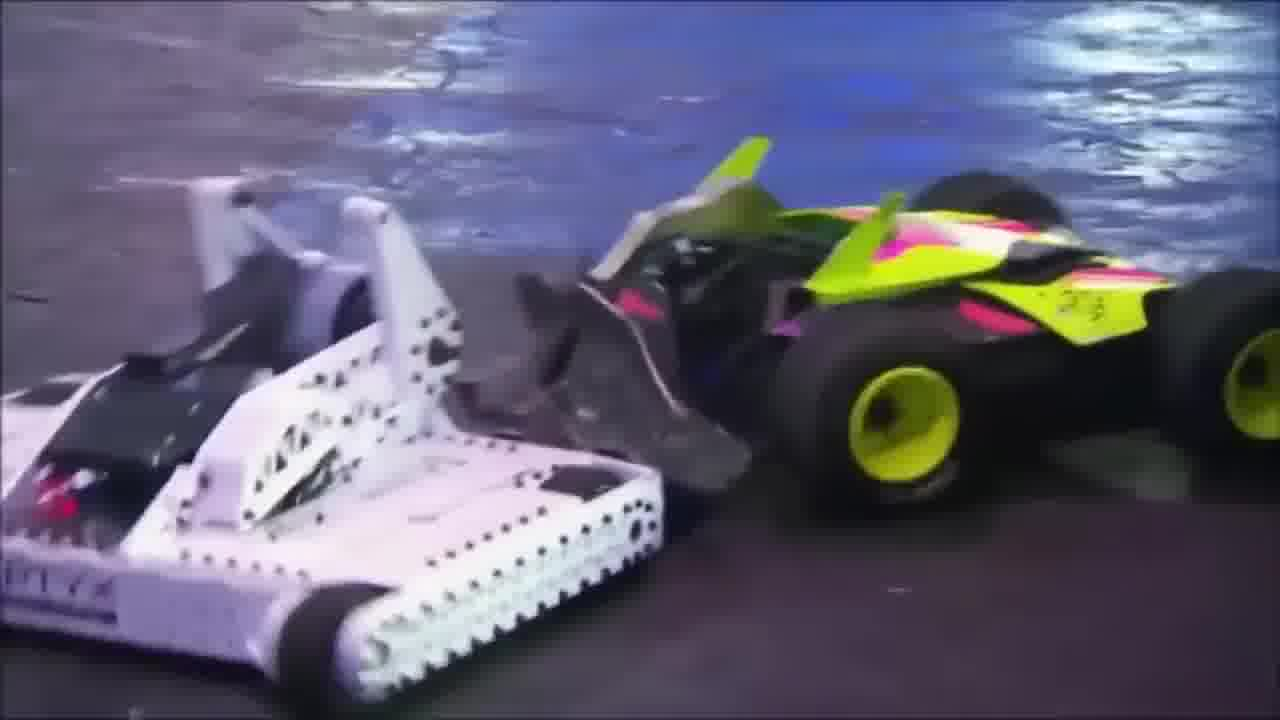combatbot: (520, 202, 1280, 534), (0, 338, 661, 717)
